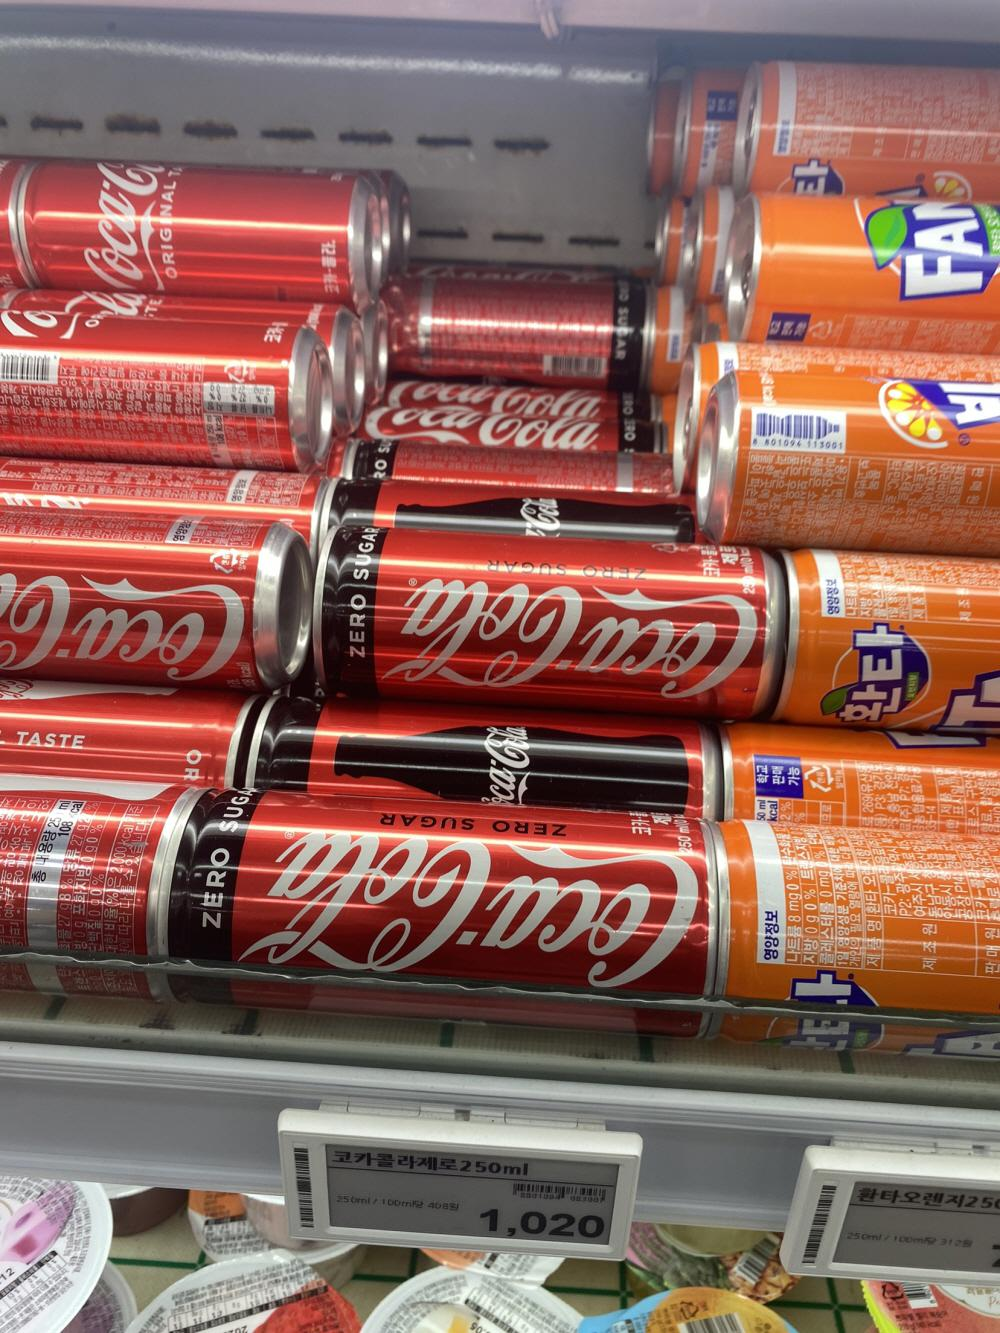cocacola_zero: (175, 782, 728, 993), (321, 504, 786, 704)
